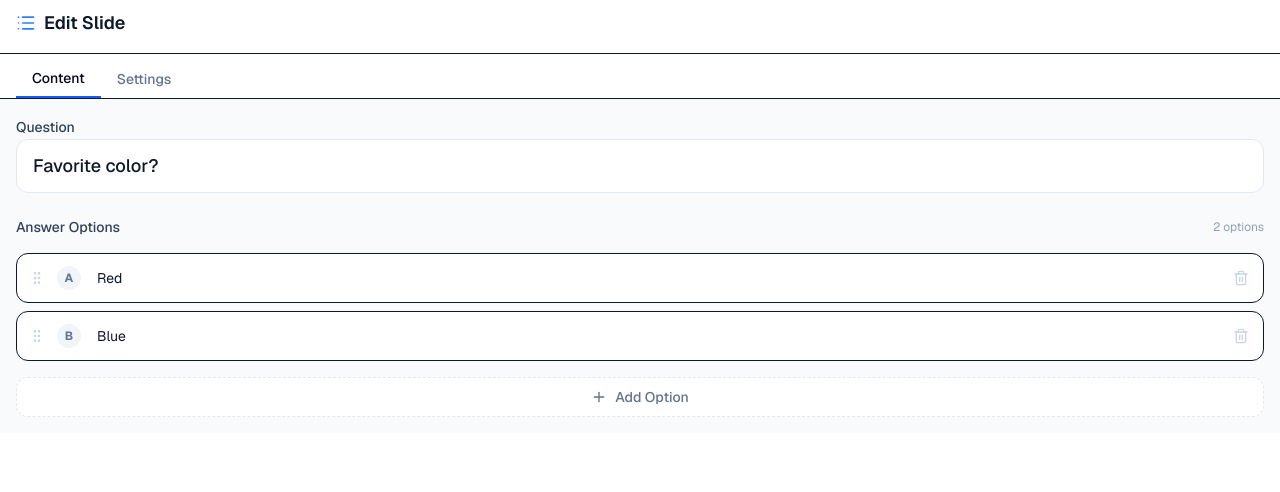
Test case: SlideEditorPanel › poll slide option CRUD › keeps the latest option text when adding another option before idle save
This screenshot has width=1280, height=492.
Replace the text in the 2nd field showing "Red" with "Crimson": (654, 278) [89,262,1219,294]
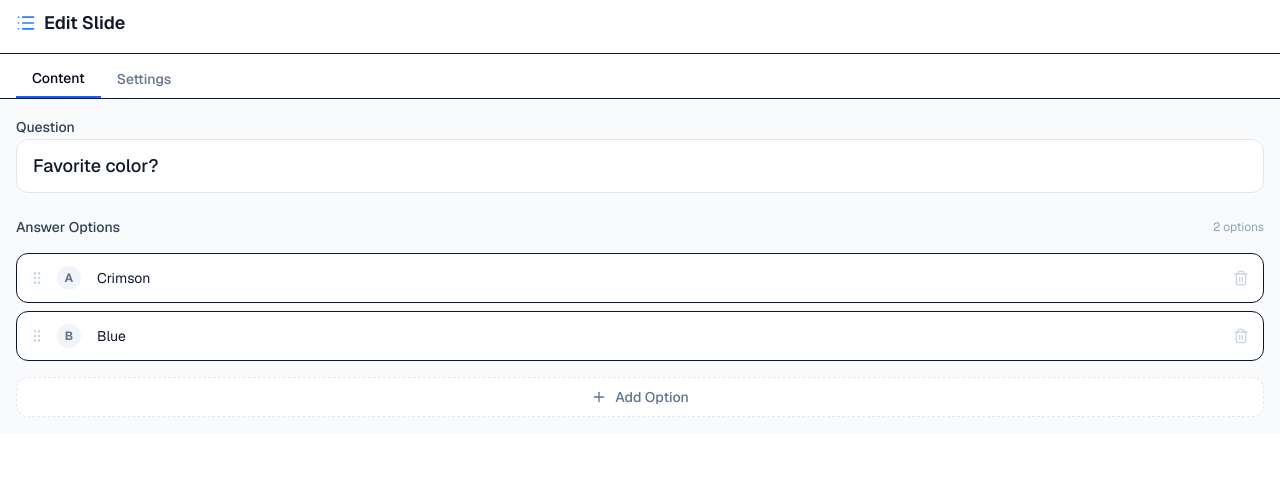
Click the button "Add Option": (640, 397) [16,377,1264,417]
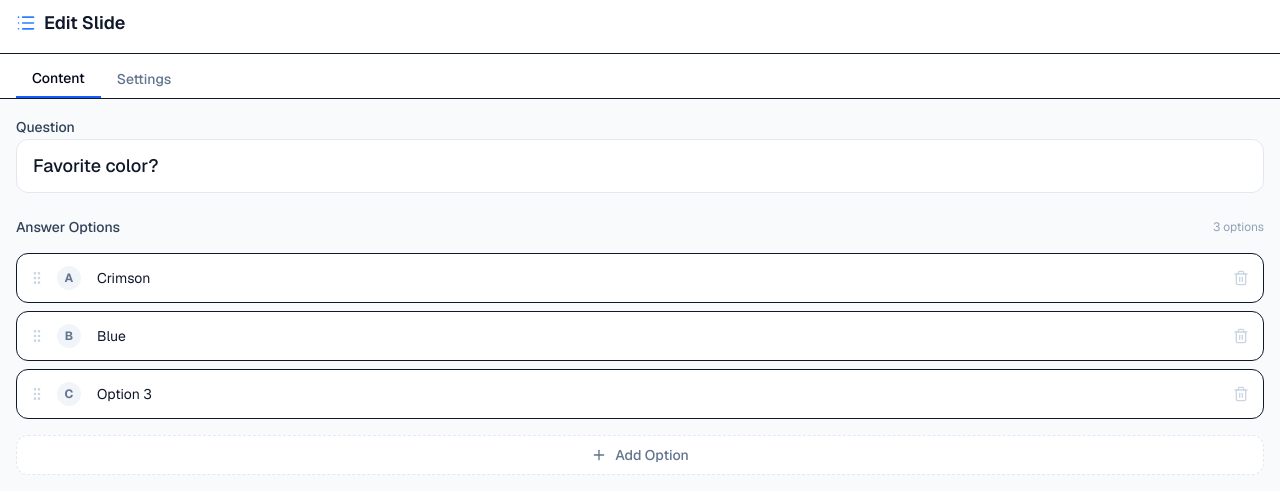
Check: the 4th field showing "Option 3" is shown, box [89,378,1219,410]
